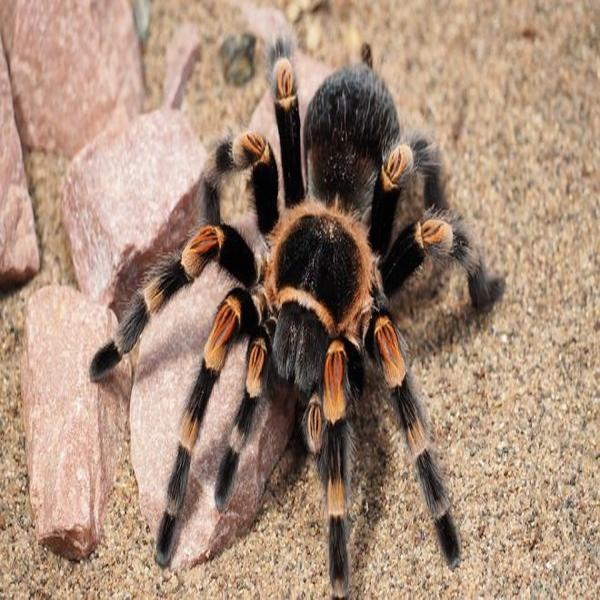Tarantula Spider: (96, 57, 485, 575)
